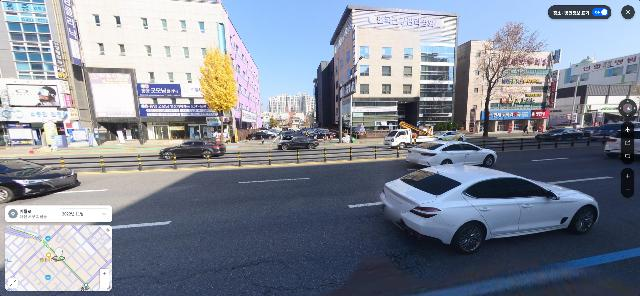ginkgo: (198, 45, 237, 143)
other: (477, 22, 550, 136)
